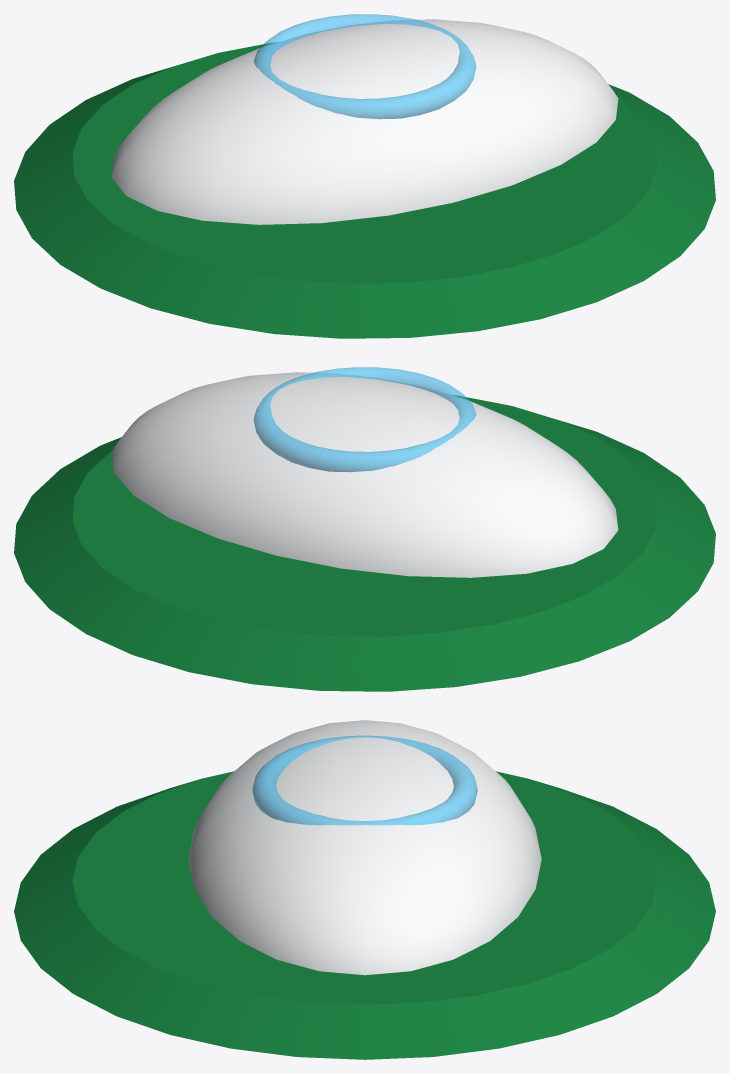
Rendered from apec_park.glb.
3 views of the same model, one above another, from view 1: azimuth 30°, elevation 25°; view 2: azimuth 150°, elevation 25°; view 3: azimuth 270°, elevation 25° (orthographic).
Bounding box in the file's own units: 84 × 18.4 × 84.
